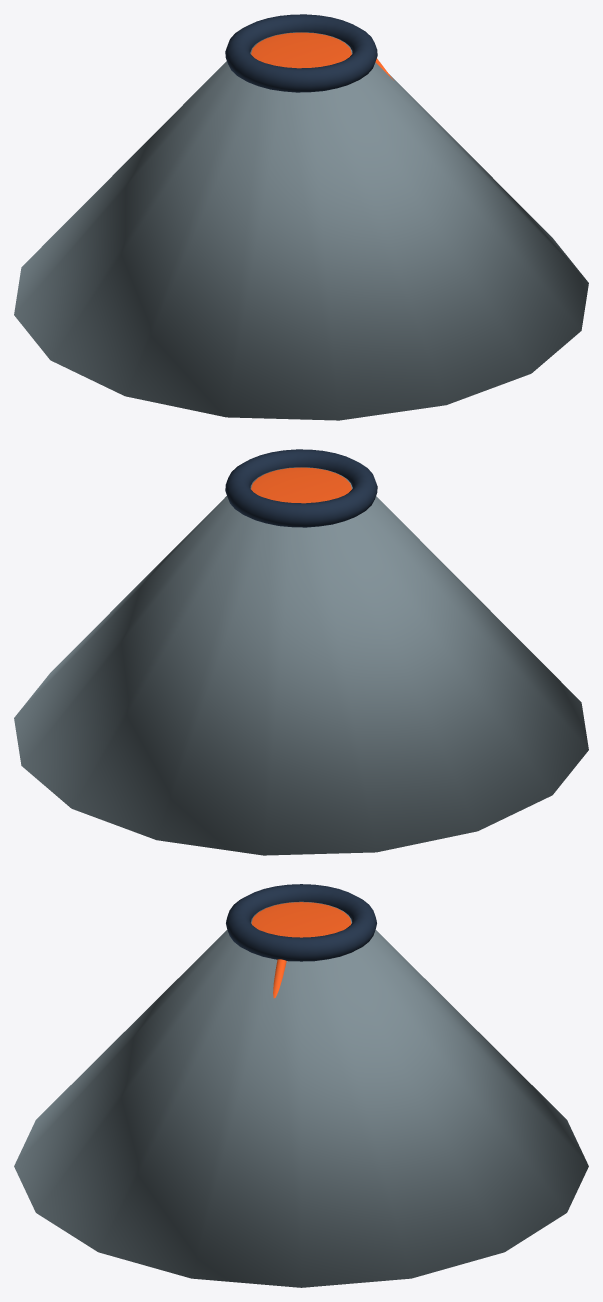
File: Volcano.glb
The picture shows the model from 3 angles, top to bottom: view 1: azimuth 30°, elevation 25°; view 2: azimuth 150°, elevation 25°; view 3: azimuth 270°, elevation 25°; orthographic projection.
Parts seen in each view (by area): view 1: Volcanic cone, Crater rim, Lava pool; view 2: Volcanic cone, Crater rim, Lava pool; view 3: Volcanic cone, Crater rim, Lava pool.
Boxes of the visible parts, bbox=[...] form: Volcanic cone: bbox=[14, 32, 588, 420]; Crater rim: bbox=[225, 14, 377, 92]; Lava pool: bbox=[251, 32, 351, 68]; Volcanic cone: bbox=[14, 467, 588, 855]; Crater rim: bbox=[225, 449, 377, 527]; Lava pool: bbox=[251, 467, 351, 503]; Volcanic cone: bbox=[14, 901, 588, 1287]; Crater rim: bbox=[226, 884, 376, 961]; Lava pool: bbox=[251, 902, 351, 937].
Size of the model in its own units: 6 by 2.92 by 6.
